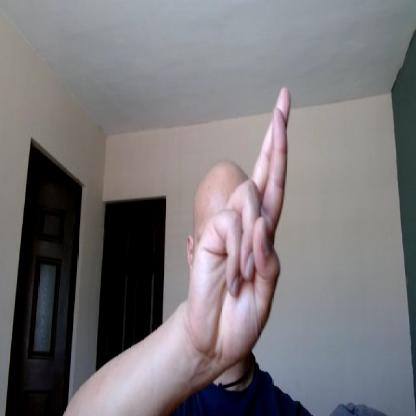R: (187, 83, 292, 359)
